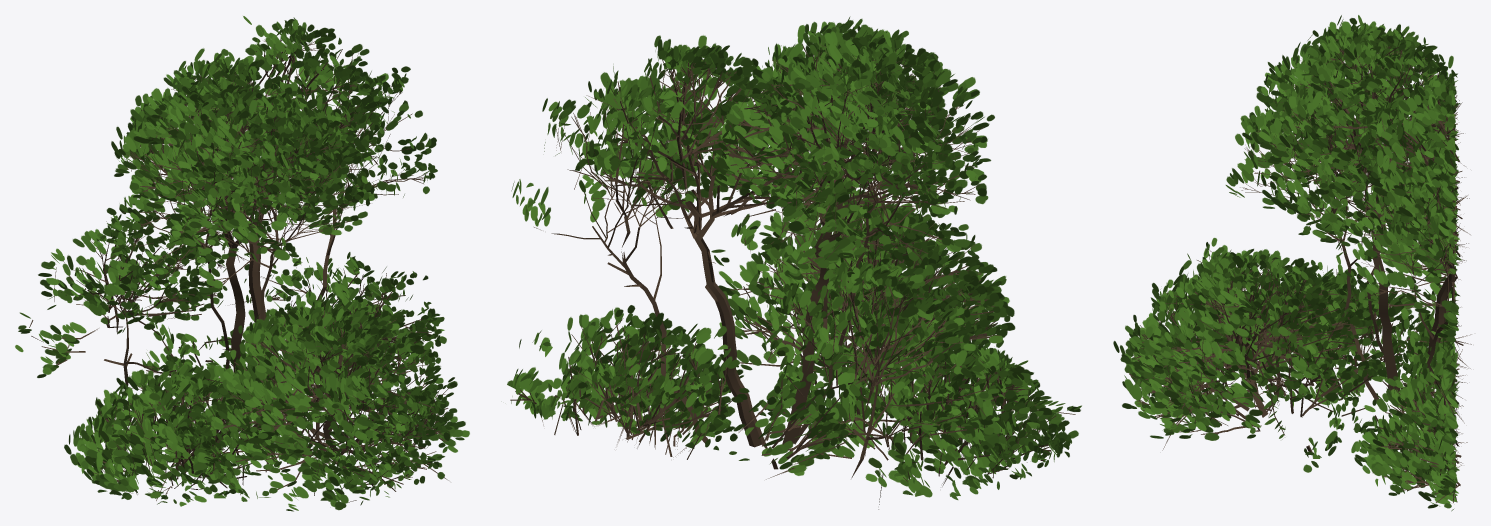
3 views of the same model, side by side, from view 1: azimuth 30°, elevation 25°; view 2: azimuth 150°, elevation 25°; view 3: azimuth 270°, elevation 25° (orthographic). The views are drawn at different scales.
Visible parts, largest first — view 1: oak 01.001_trunk_Mat.001_0.453; view 2: oak 01.001_trunk_Mat.001_0.453; view 3: oak 01.001_trunk_Mat.001_0.453.
Part boxes in pixels (box(x1,y1,x2,y2)): oak 01.001_trunk_Mat.001_0.453: box(15, 16, 469, 511); oak 01.001_trunk_Mat.001_0.453: box(507, 16, 1081, 509); oak 01.001_trunk_Mat.001_0.453: box(1113, 15, 1471, 511).
Size of the model in its own units: 3.98 by 3.4 by 2.92.
2 materials, 1 textured.
